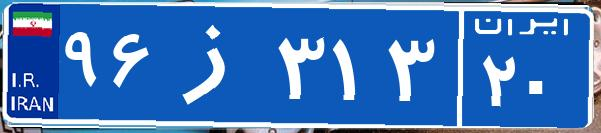0: (525, 38, 570, 115)
1: (330, 28, 385, 110)
2: (475, 38, 525, 113)
3: (385, 28, 445, 110), (273, 28, 330, 110)
6: (110, 28, 158, 105)
9: (57, 26, 110, 107)
ز: (158, 15, 273, 115)
